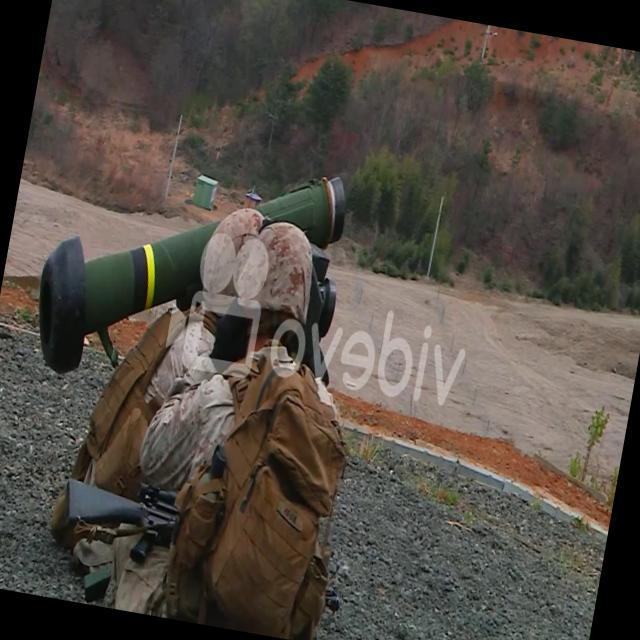rocket: (32, 132, 350, 414)
